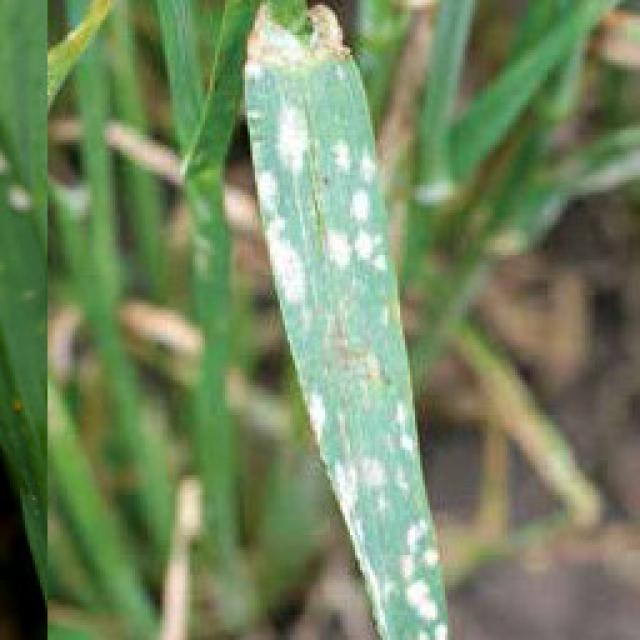wheat-powdery-mildew: (242, 3, 450, 640)
